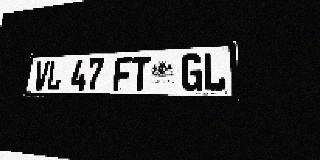4: (70, 59, 89, 91)
7: (86, 58, 104, 91)
F: (113, 57, 132, 91)
G: (181, 53, 202, 91)
L: (203, 52, 226, 91), (46, 60, 63, 90)
T: (130, 56, 150, 91)
V: (33, 61, 50, 90)
